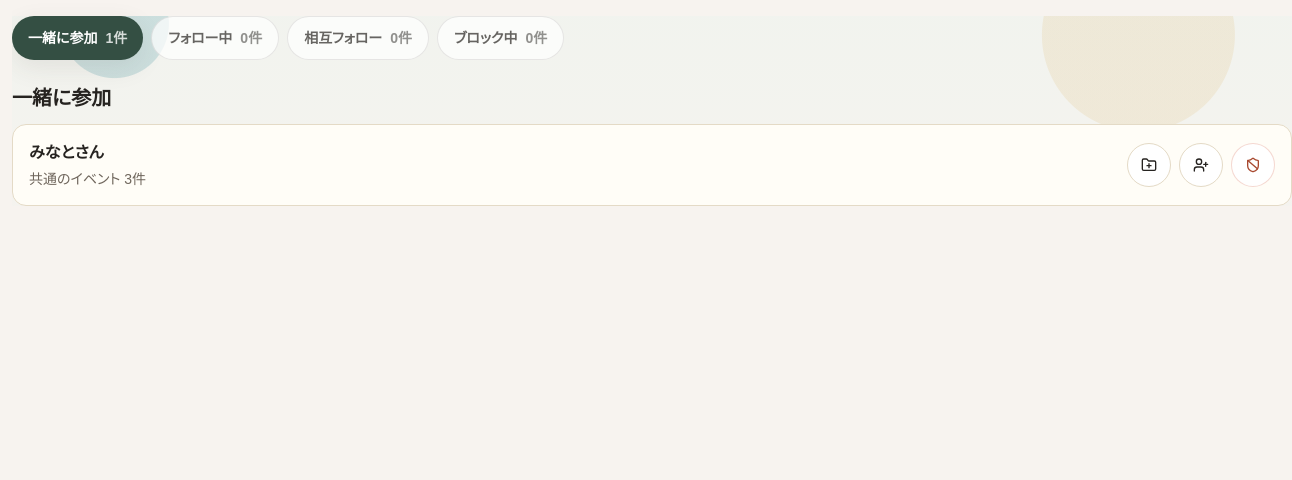
it: ConnectionList › お気に入りの撤去とグループ › 「グループに入れる」は開閉の状態を伝え、閉じたらボタンにフォーカスを戻す
Click the button named "グループに入れる".
click(1149, 165)  # box [1127, 143, 1171, 187]
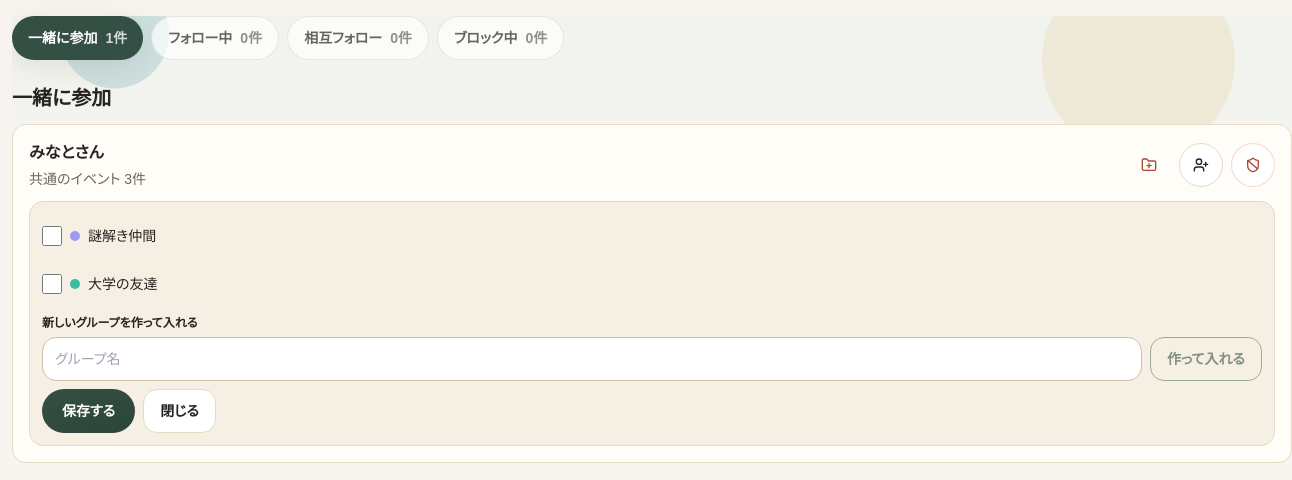
Expected: the button named "グループに入れる" is expanded, [1127, 143, 1171, 187]
Click the button "閉じる".
click(180, 411)  # box [143, 389, 216, 433]
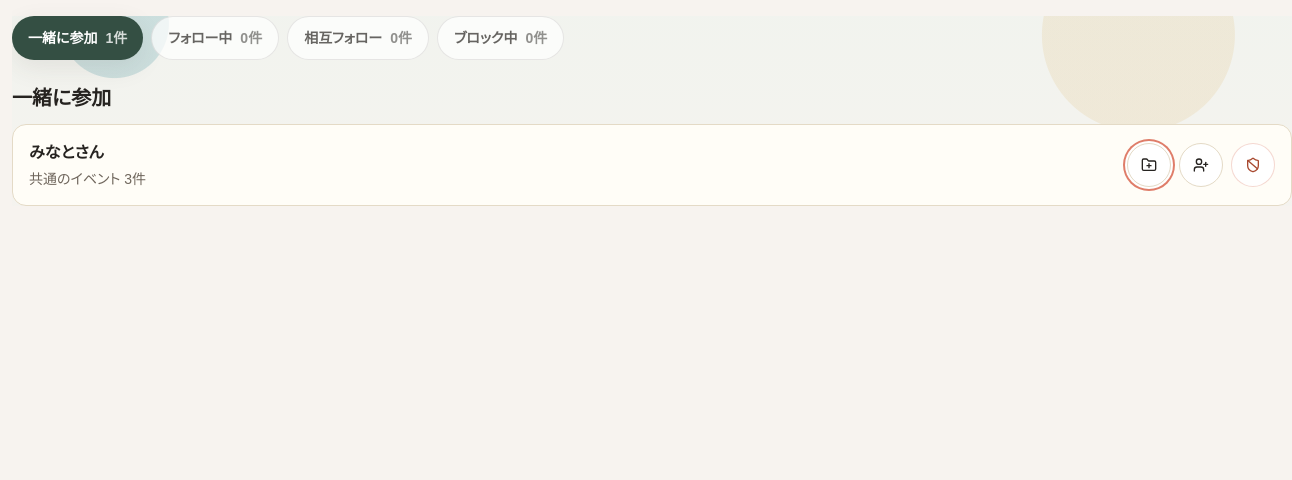
Expected: the button named "グループに入れる" is collapsed, [1127, 143, 1171, 187]
